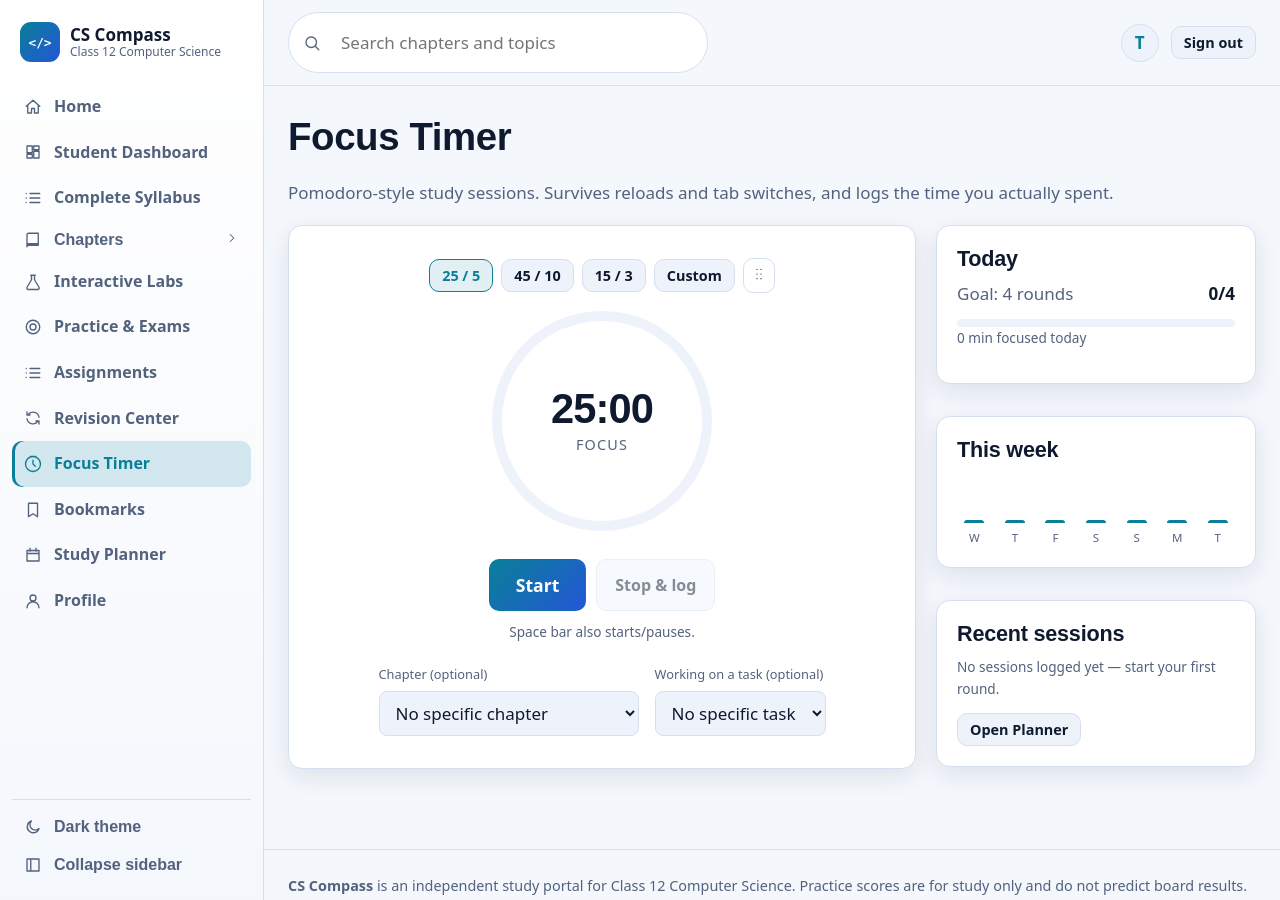
focus timer › counts down once started, and Pause freezes it
Expected: the heading "Focus Timer" is shown, 288,115 -> 511,158
Expected: the text "0/4" is shown, 1208,280 -> 1235,307
Click the button "Start". click: (538, 585)
box: 489,559 -> 586,611
Wait 3000 ms
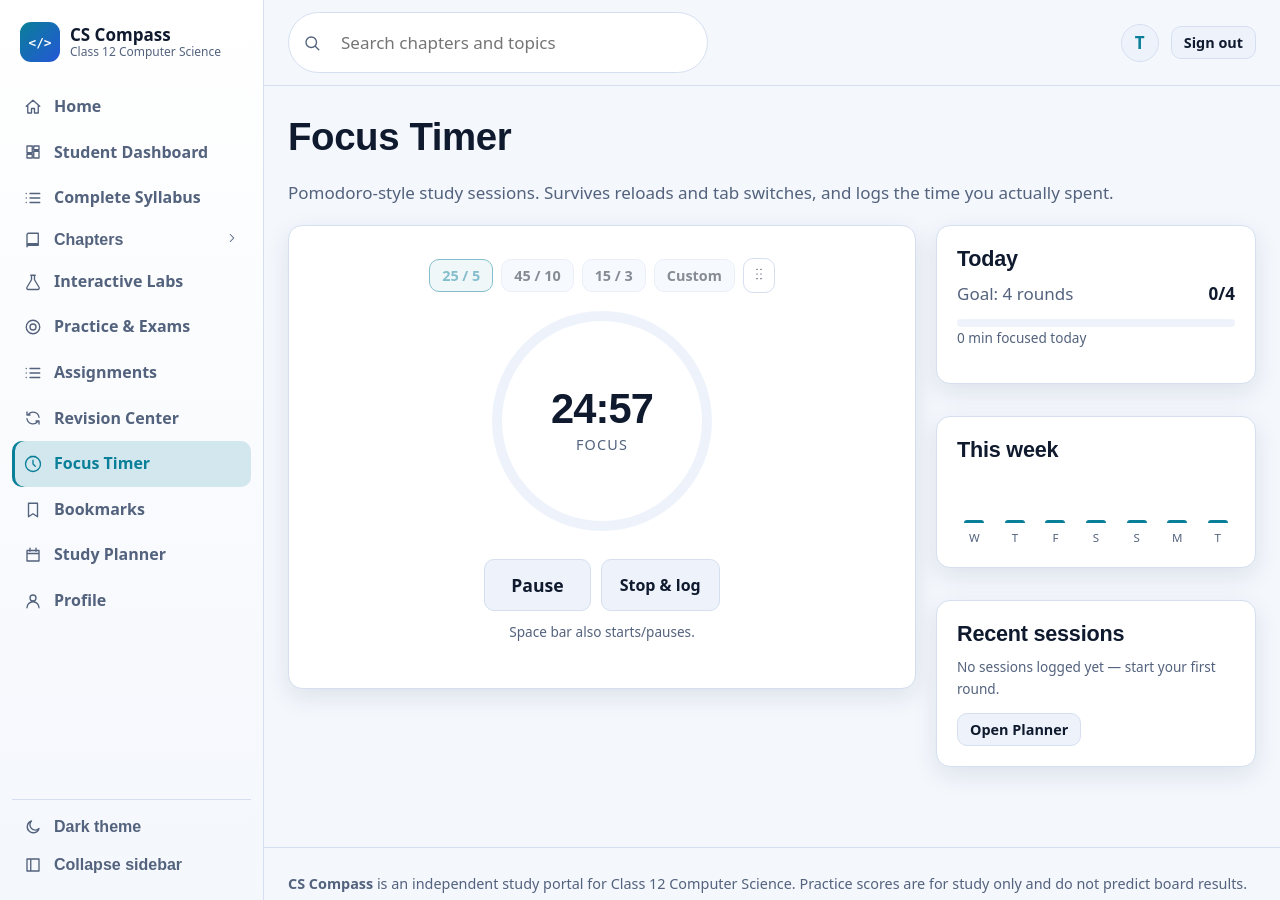
Now the element showing "24:57 Focus" is shown, box 492,311 -> 712,531
Click the button "Pause". click: (538, 585)
box: 484,559 -> 591,611
Wait 10000 ms
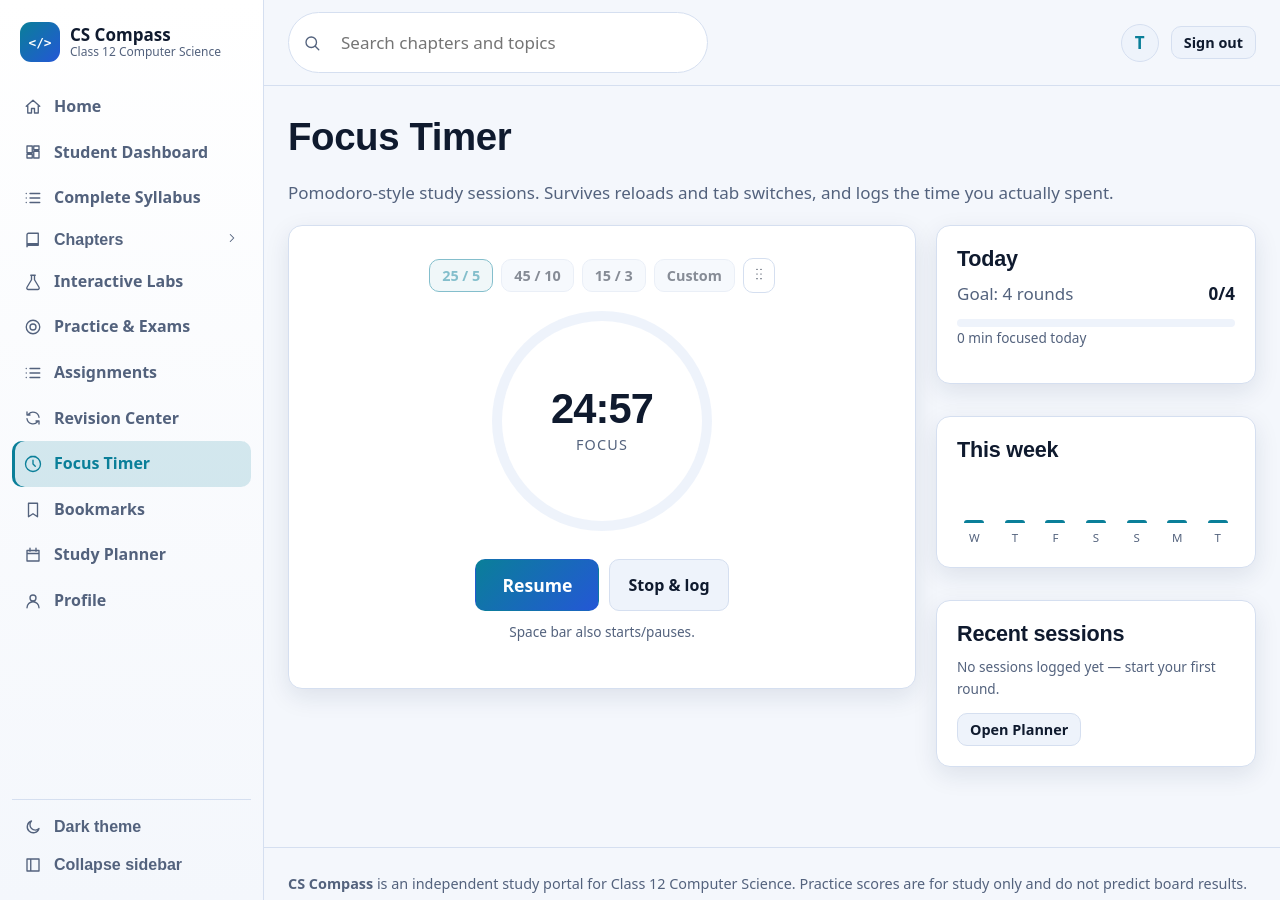
Now the element showing "24:57 Focus" is shown, box 492,311 -> 712,531
Now the button "Resume" is shown, box 476,559 -> 600,611
